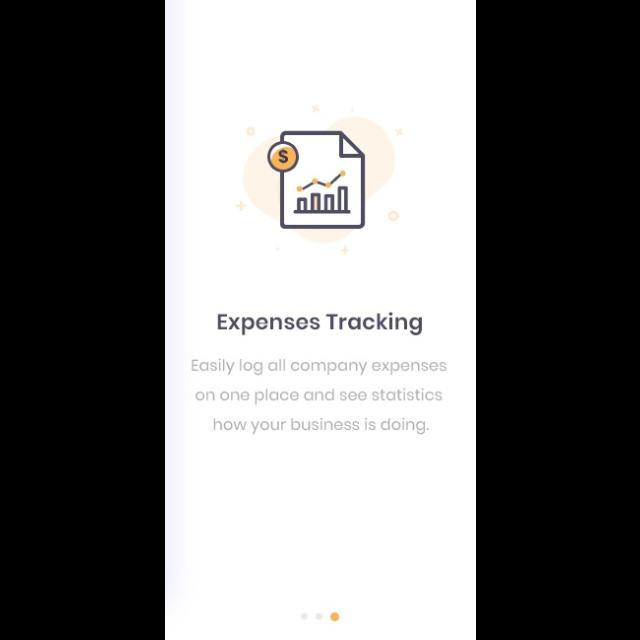image: (235, 105, 403, 255)
pageindicator: (299, 612, 339, 622)
text: (191, 358, 447, 436), (216, 312, 422, 336)
